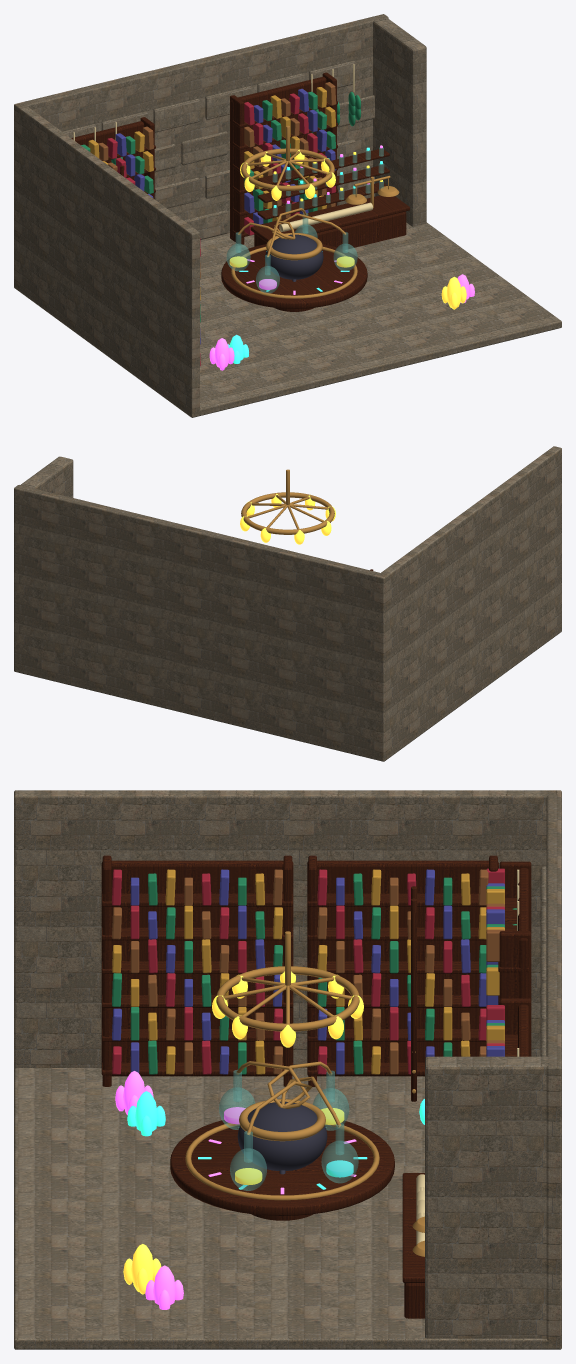
Rendered from fantasy_alchemist_workshop_library.glb.
3 renders of one model, top to bottom at view 1: azimuth 30°, elevation 25°; view 2: azimuth 150°, elevation 25°; view 3: azimuth 270°, elevation 25°, orthographic. The views are drawn at different scales.
Parts seen in each view (by area): view 1: RefinedSurface_Alchemist_StoneDetail, RefinedSurface_Alchemist_WarmWood, RefinedSurface_Alchemist_DarkWood, RefinedSurface_Alchemist_AgedBrass, RefinedSurface_Alchemist_BottleGlass, fantasy_alchemist_workshop_library_Batch_12_Book_Forest, fantasy_alchemist_workshop_library_Batch_13_Book_Indigo, fantasy_alchemist_workshop_library_Batch_11_Book_Claret, fantasy_alchemist_workshop_library_Batch_15_Book_Ochre, fantasy_alchemist_workshop_library_Batch_14_Book_Leather, fantasy_alchemist_workshop_library_Batch_02_Alchemist_AmberG, RefinedSurface_Alchemist_BlackIron (+3 smaller); view 2: RefinedSurface_Alchemist_StoneDetail, RefinedSurface_Alchemist_AgedBrass, fantasy_alchemist_workshop_library_Batch_02_Alchemist_AmberG; view 3: RefinedSurface_Alchemist_StoneDetail, RefinedSurface_Alchemist_WarmWood, RefinedSurface_Alchemist_DarkWood, RefinedSurface_Alchemist_AgedBrass, fantasy_alchemist_workshop_library_Batch_11_Book_Claret, fantasy_alchemist_workshop_library_Batch_15_Book_Ochre, fantasy_alchemist_workshop_library_Batch_13_Book_Indigo, fantasy_alchemist_workshop_library_Batch_14_Book_Leather, fantasy_alchemist_workshop_library_Batch_12_Book_Forest, RefinedSurface_Alchemist_BottleGlass, RefinedSurface_Alchemist_BlackIron, fantasy_alchemist_workshop_library_Batch_02_Alchemist_AmberG (+2 smaller).
Boxes of the visible parts, x1=… form: RefinedSurface_Alchemist_StoneDetail: x1=14, y1=14, x2=561, y2=417; RefinedSurface_Alchemist_WarmWood: x1=99, y1=72, x2=409, y2=308; RefinedSurface_Alchemist_DarkWood: x1=71, y1=76, x2=406, y2=311; RefinedSurface_Alchemist_AgedBrass: x1=231, y1=125, x2=399, y2=298; RefinedSurface_Alchemist_BottleGlass: x1=226, y1=147, x2=384, y2=293; fantasy_alchemist_workshop_library_Batch_12_Book_Forest: x1=81, y1=91, x2=361, y2=322; fantasy_alchemist_workshop_library_Batch_13_Book_Indigo: x1=115, y1=88, x2=336, y2=344; fantasy_alchemist_workshop_library_Batch_11_Book_Claret: x1=107, y1=93, x2=335, y2=365; fantasy_alchemist_workshop_library_Batch_15_Book_Ochre: x1=88, y1=87, x2=335, y2=300; fantasy_alchemist_workshop_library_Batch_14_Book_Leather: x1=98, y1=82, x2=336, y2=278; fantasy_alchemist_workshop_library_Batch_02_Alchemist_AmberG: x1=229, y1=149, x2=466, y2=309; RefinedSurface_Alchemist_BlackIron: x1=265, y1=234, x2=323, y2=281; RefinedSurface_Alchemist_StoneDetail: x1=14, y1=446, x2=561, y2=761; RefinedSurface_Alchemist_AgedBrass: x1=241, y1=469, x2=334, y2=534; fantasy_alchemist_workshop_library_Batch_02_Alchemist_AmberG: x1=240, y1=493, x2=335, y2=544; RefinedSurface_Alchemist_StoneDetail: x1=14, y1=790, x2=561, y2=1349; RefinedSurface_Alchemist_WarmWood: x1=101, y1=855, x2=531, y2=1282; RefinedSurface_Alchemist_DarkWood: x1=101, y1=860, x2=528, y2=1318; RefinedSurface_Alchemist_AgedBrass: x1=185, y1=931, x2=424, y2=1256; fantasy_alchemist_workshop_library_Batch_11_Book_Claret: x1=112, y1=868, x2=504, y2=1074; fantasy_alchemist_workshop_library_Batch_15_Book_Ochre: x1=112, y1=869, x2=504, y2=1074; fantasy_alchemist_workshop_library_Batch_13_Book_Indigo: x1=112, y1=869, x2=504, y2=1074; fantasy_alchemist_workshop_library_Batch_14_Book_Leather: x1=112, y1=869, x2=504, y2=1074; fantasy_alchemist_workshop_library_Batch_12_Book_Forest: x1=112, y1=873, x2=516, y2=1074; RefinedSurface_Alchemist_BottleGlass: x1=219, y1=1069, x2=358, y2=1190; RefinedSurface_Alchemist_BlackIron: x1=237, y1=1101, x2=327, y2=1174; fantasy_alchemist_workshop_library_Batch_02_Alchemist_AmberG: x1=123, y1=971, x2=363, y2=1294.
Bounding box in the file's own units: 12 × 5.81 × 10.
15 materials, 3 textured.
